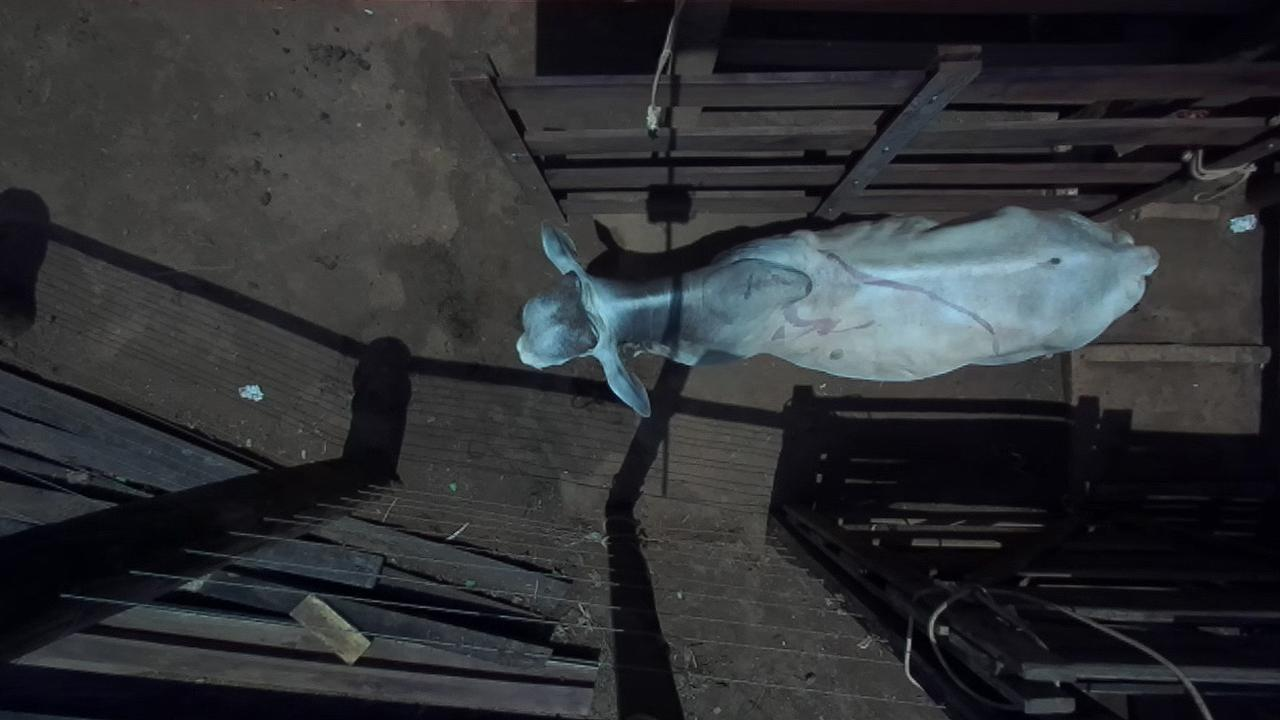cattle: (514, 203, 1160, 417)
